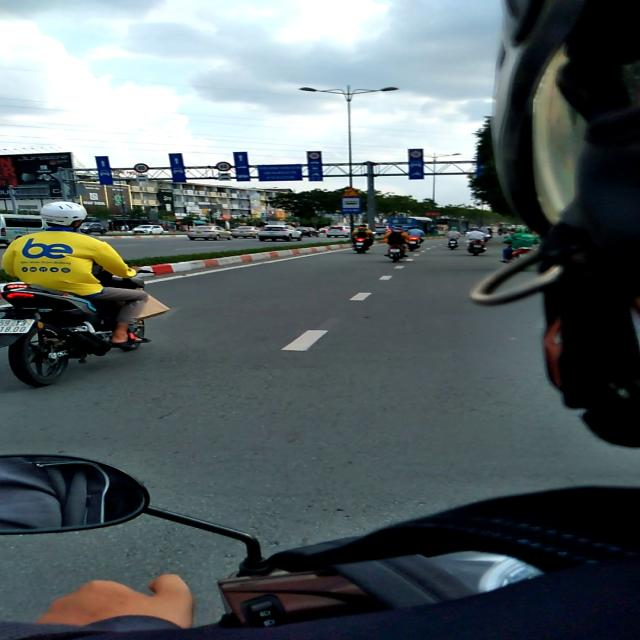Ben xe buyt: (341, 197, 361, 214)
Nguy hiem: (341, 187, 359, 197)
Toc do toi da: (133, 163, 150, 173), (215, 162, 232, 172), (408, 150, 422, 159), (308, 152, 320, 160)
